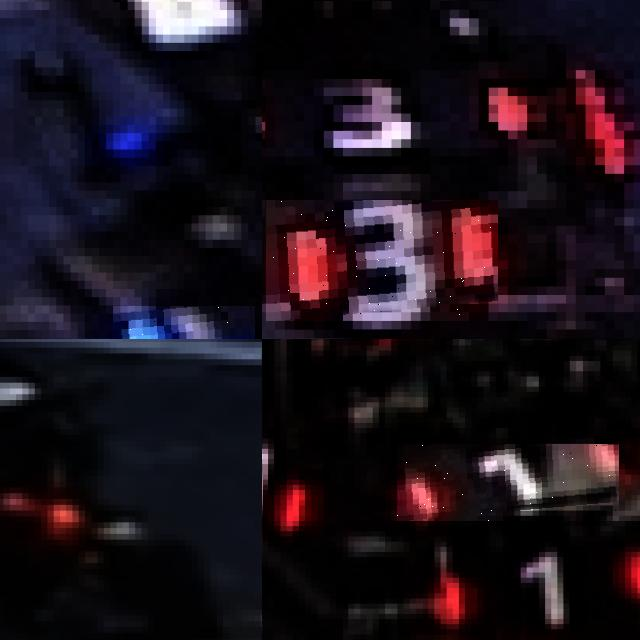B3: (113, 305, 255, 339)
R1: (434, 541, 640, 634), (397, 444, 619, 521)
R3: (266, 200, 498, 321), (262, 70, 527, 174)
